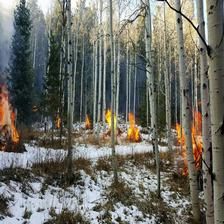fire: (177, 114, 209, 179), (2, 82, 31, 152), (104, 108, 143, 143), (51, 112, 64, 129), (82, 112, 92, 131)
